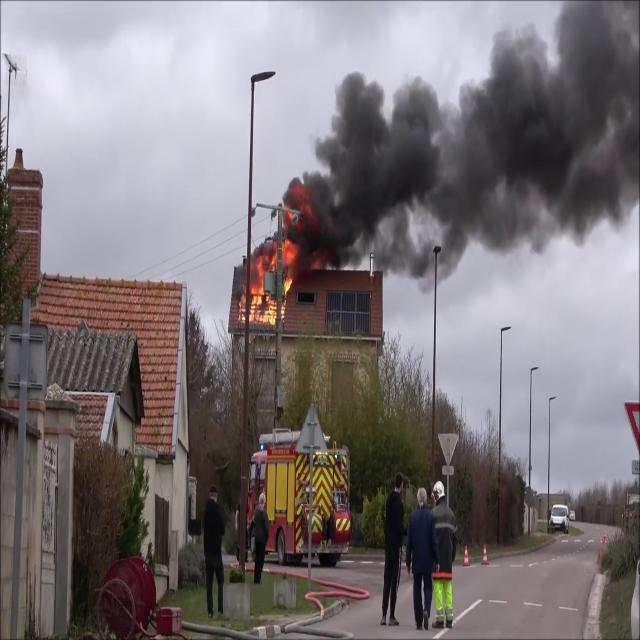Fire: (240, 235, 298, 329)
Smoke: (283, 6, 640, 271)
